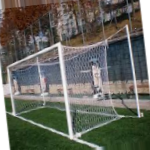goals: (6, 38, 121, 138)
